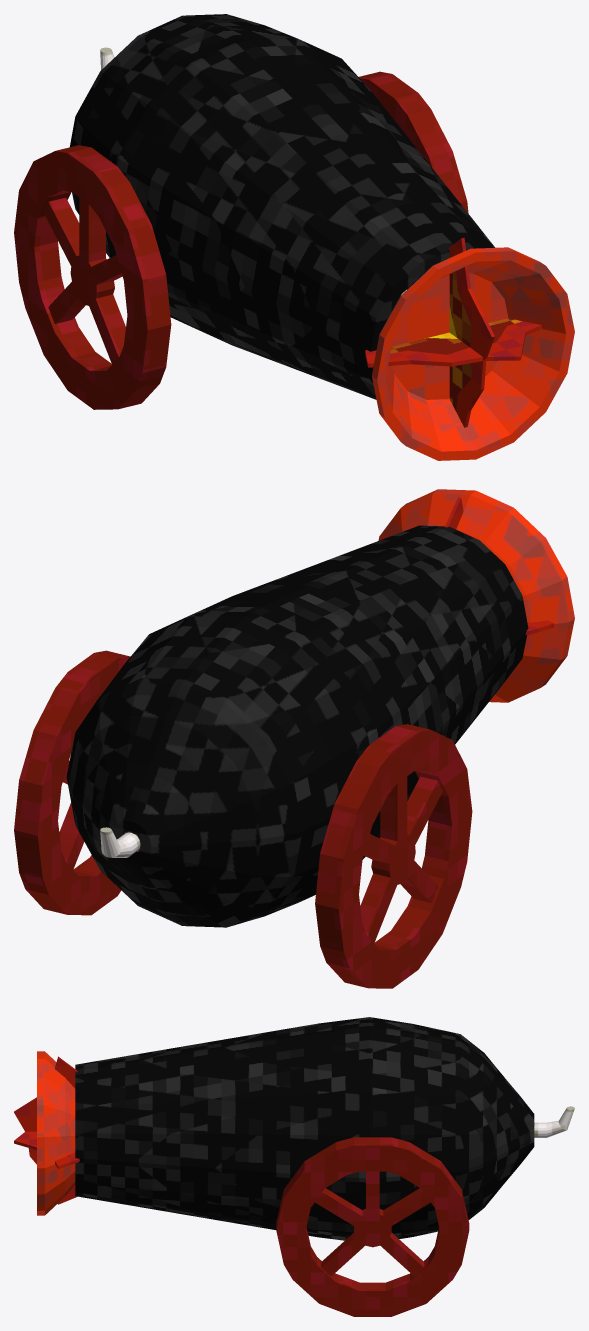
Rendered from Cannon.fbx.
The picture shows the model from 3 angles, top to bottom: view 1: azimuth 30°, elevation 25°; view 2: azimuth 150°, elevation 25°; view 3: azimuth 270°, elevation 25°; orthographic projection. The views are drawn at different scales.
Visible parts, largest first — view 1: Cannon, Wheels, Plunger, explosion2, explosion1; view 2: Cannon, Wheels, Plunger; view 3: Cannon, Wheels, Plunger, explosion2, explosion1.
Part boxes in pixels (x1,y1,x2,y2): Cannon: [70, 14, 494, 399]; Wheels: [14, 71, 468, 409]; Plunger: [372, 247, 574, 460]; explosion2: [448, 237, 494, 427]; explosion1: [365, 318, 542, 367]; Cannon: [66, 525, 528, 927]; Wheels: [14, 650, 472, 988]; Plunger: [378, 489, 574, 702]; Cannon: [75, 1017, 574, 1240]; Wheels: [276, 1137, 469, 1316]; Plunger: [37, 1051, 75, 1215]; explosion2: [14, 1056, 77, 1204]; explosion1: [14, 1131, 79, 1169].
Size of the model in its own units: 89.5 by 84.8 by 186.
Materials: 8 (8 with a texture image).
